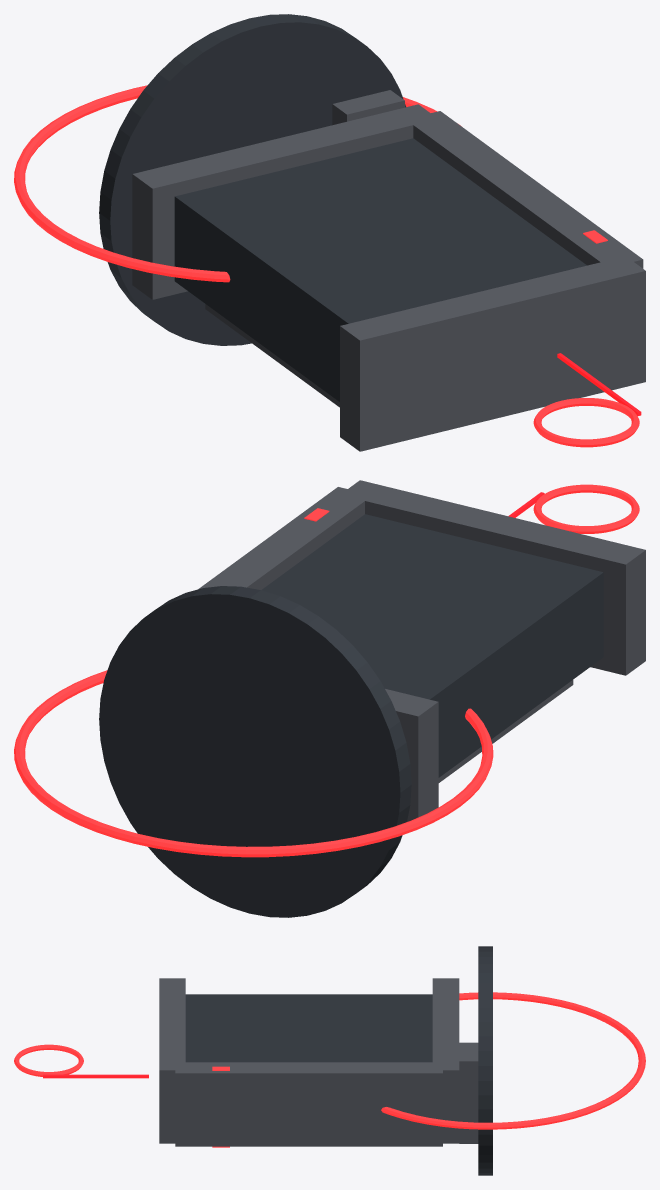
File: Project_Exodus_Memory_Pack_Glow.glb
3 views of the same model, one above another, from view 1: azimuth 30°, elevation 25°; view 2: azimuth 150°, elevation 25°; view 3: azimuth 270°, elevation 25° (orthographic). The views are drawn at different scales.
Parts seen in each view (by area): view 1: MemoryPack_Core, TopCap, Base, BottomCap, SideRail, TimerGlowRing, HologramRing, Foot, FrontArmor; view 2: Base, MemoryPack_Core, TopCap, TimerGlowRing, SideRail, BottomCap, HologramRing, FrontArmor; view 3: SideRail, MemoryPack_Core, TopCap, BottomCap, TimerGlowRing, Base, Foot, HologramRing, HoloBeam.
Part boxes in pixels (left/top/right/bottom): MemoryPack_Core: left=174, top=138, right=586, bottom=401; TopCap: left=340, top=262, right=645, bottom=451; Base: left=99, top=14, right=405, bottom=345; BottomCap: left=132, top=104, right=437, bottom=299; SideRail: left=406, top=111, right=643, bottom=268; TimerGlowRing: left=14, top=85, right=460, bottom=282; HologramRing: left=533, top=398, right=639, bottom=447; Foot: left=332, top=90, right=404, bottom=125; FrontArmor: left=205, top=304, right=339, bottom=407; Base: left=99, top=586, right=411, bottom=917; MemoryPack_Core: left=261, top=514, right=603, bottom=777; TopCap: left=341, top=480, right=645, bottom=675; TimerGlowRing: left=14, top=670, right=493, bottom=857; SideRail: left=198, top=487, right=372, bottom=589; BottomCap: left=385, top=689, right=438, bottom=821; HologramRing: left=533, top=484, right=639, bottom=533; FrontArmor: left=438, top=680, right=573, bottom=782; SideRail: left=175, top=1062, right=442, bottom=1146; MemoryPack_Core: left=185, top=994, right=432, bottom=1062; TopCap: left=159, top=978, right=185, bottom=1143; BottomCap: left=432, top=978, right=459, bottom=1143; TimerGlowRing: left=381, top=992, right=645, bottom=1129; Base: left=478, top=946, right=492, bottom=1175; Foot: left=459, top=1042, right=478, bottom=1143; HologramRing: left=14, top=1044, right=83, bottom=1076; HoloBeam: left=43, top=1074, right=148, bottom=1078.
Bounding box in the file's own units: 2.15 × 1.56 × 4.3.
